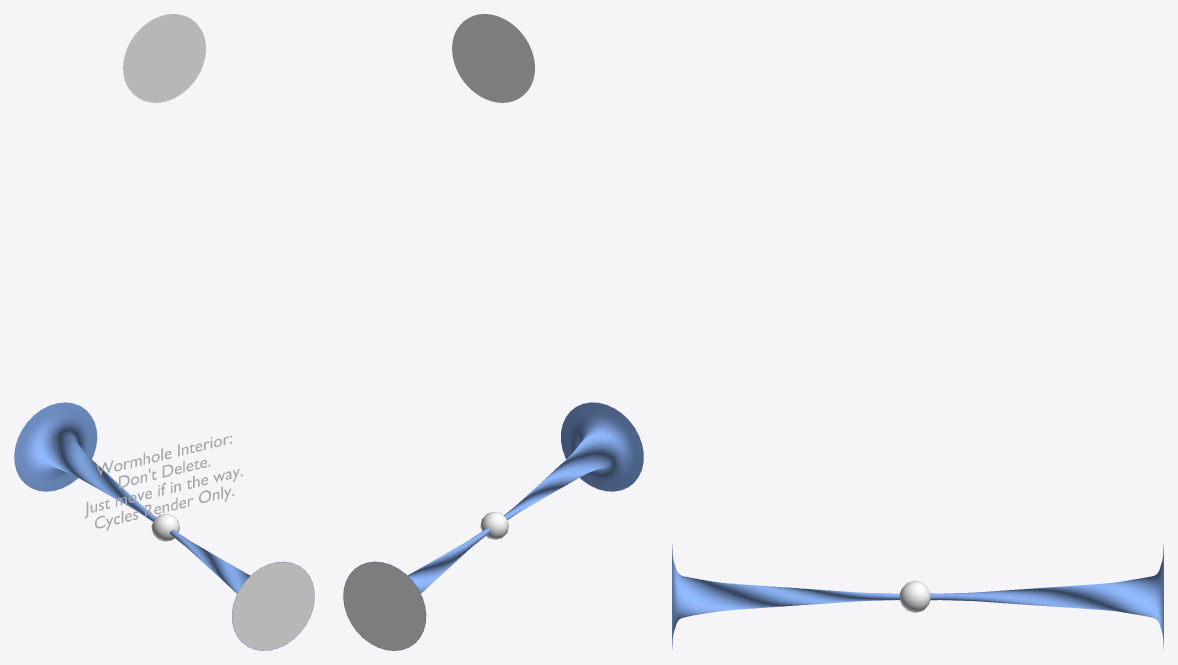
File: vortex_wormhole_1.glb
3 renders of one model, left to right at view 1: azimuth 30°, elevation 25°; view 2: azimuth 150°, elevation 25°; view 3: azimuth 270°, elevation 25°, orthographic. The views are drawn at different scales.
Visible parts, largest first — view 1: 5th_D, Portal_B, Portal_A, Note; view 2: 5th_D, Portal_B2, Portal_A2; view 3: 5th_D.
Part boxes in pixels (box(x1,y1,x2,y2)): 5th_D: box(14, 402, 314, 650); Portal_B: box(232, 562, 314, 650); Portal_A: box(123, 14, 205, 102); Note: box(84, 435, 242, 530); 5th_D: box(343, 402, 643, 650); Portal_B2: box(343, 562, 425, 650); Portal_A2: box(452, 14, 534, 102); 5th_D: box(672, 544, 1163, 648).
Size of the model in its own units: 4.71 by 15.77 by 11.21.
